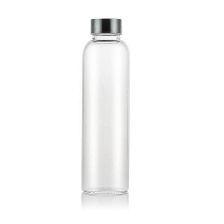bottle: (77, 10, 136, 199)
